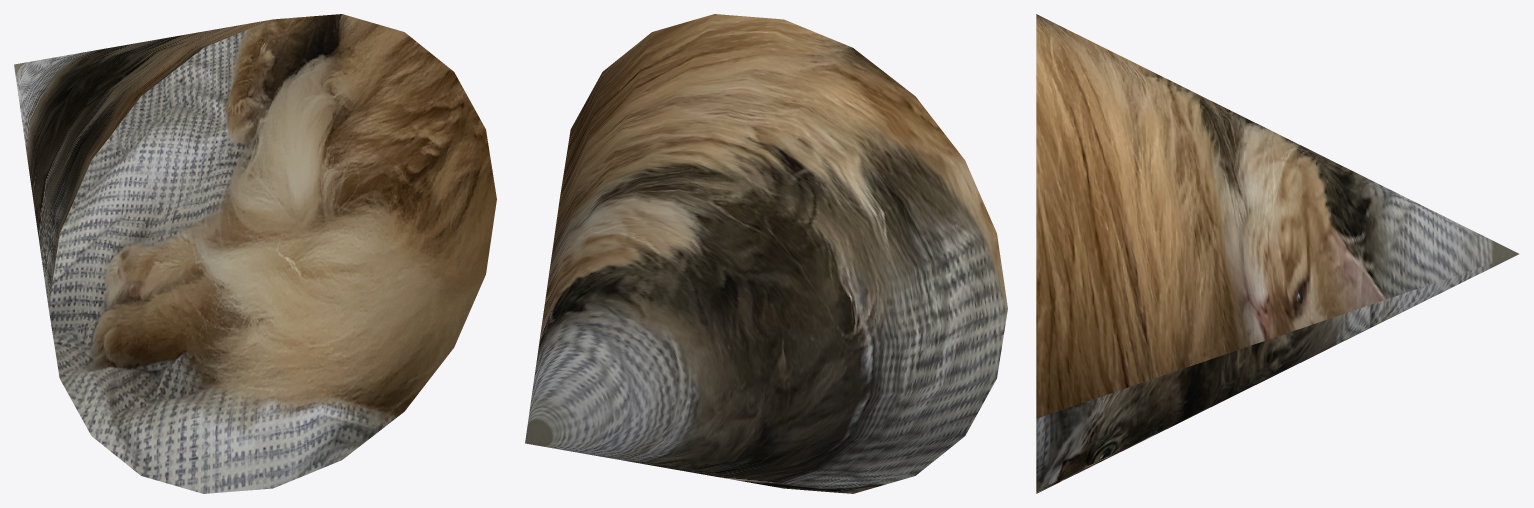
The model's file is PlayerArrow.fbx.
3 views of the same model, side by side, from view 1: azimuth 30°, elevation 25°; view 2: azimuth 150°, elevation 25°; view 3: azimuth 270°, elevation 25° (orthographic). The views are drawn at different scales.
Parts seen in each view (by area): view 1: pCone1; view 2: pCone1; view 3: pCone1.
Boxes of the visible parts, x1=… form: pCone1: x1=14, y1=14, x2=496, y2=493; pCone1: x1=525, y1=14, x2=1007, y2=493; pCone1: x1=1036, y1=14, x2=1518, y2=493.
Bounding box in the file's own units: 2 × 2 × 2.
1 material, 1 textured.
